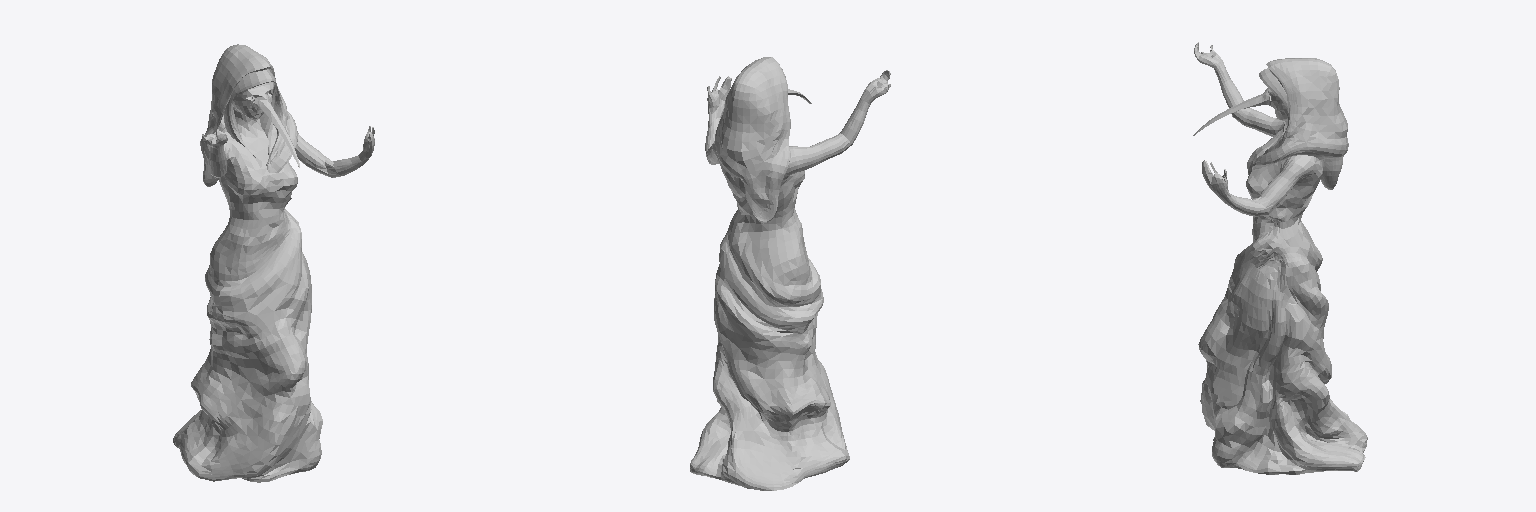
File: AngelTestforUnity.obj
3 renders of one model, left to right at view 1: azimuth 30°, elevation 25°; view 2: azimuth 150°, elevation 25°; view 3: azimuth 270°, elevation 25°, orthographic.
Visible parts, largest first — view 1: Group3, Group2, Group1; view 2: Group3, Group2; view 3: Group3, Group2, Group1.
Boxes of the visible parts, box(x1,y1,x2,y2) form: Group3: box(173, 82, 374, 482); Group2: box(200, 44, 297, 186); Group1: box(223, 69, 275, 157); Group3: box(690, 70, 890, 490); Group2: box(715, 57, 790, 223); Group3: box(1193, 42, 1367, 474); Group2: box(1252, 58, 1348, 189); Group1: box(1259, 68, 1288, 150).
Bounding box in the file's own units: 0.9688 × 2.08 × 0.8346.